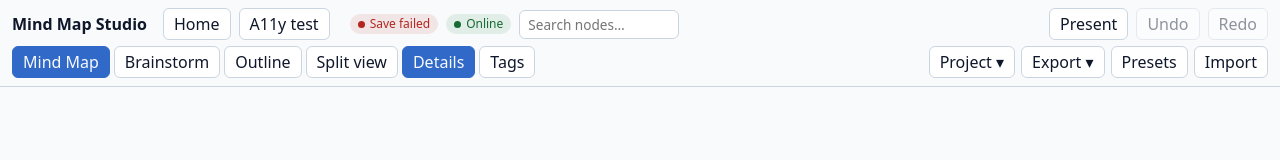
Test: Toolbar — inline project rename › shows the project name as a button that opens the rename input
Click the button "A11y test" at (284, 24), box [238,8,330,40]
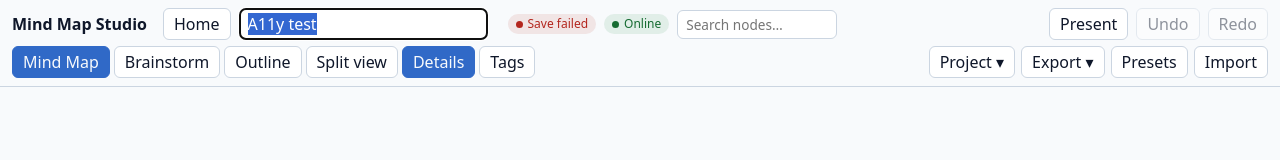
Now the field with class "toolbar-project-name-input" holds "A11y test", box [238,8,488,40]
